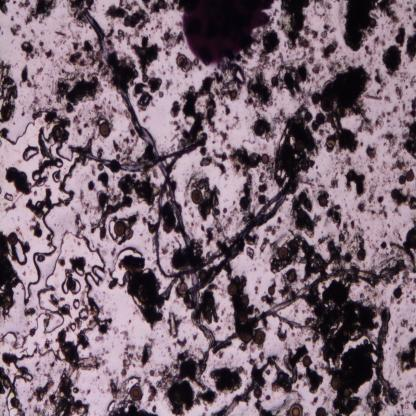Air bubble: (28, 209, 70, 304), (109, 247, 145, 294), (33, 300, 64, 336), (12, 240, 27, 265), (21, 145, 39, 163), (63, 269, 70, 295), (72, 278, 81, 296), (235, 69, 246, 83), (53, 156, 64, 168), (78, 309, 89, 321), (4, 190, 14, 202), (32, 169, 41, 182), (72, 298, 80, 310), (230, 89, 237, 99), (70, 323, 76, 332)
Background material: (308, 323, 374, 415), (320, 63, 374, 152), (307, 278, 382, 334), (274, 108, 316, 189), (119, 254, 165, 327), (343, 0, 398, 49), (90, 193, 133, 237), (52, 69, 103, 105), (158, 366, 196, 414), (281, 0, 317, 50), (178, 86, 206, 149), (58, 331, 101, 372), (282, 1, 318, 49), (288, 235, 328, 278), (0, 233, 20, 316), (228, 146, 261, 193), (288, 193, 322, 238), (105, 1, 150, 35), (187, 177, 221, 221), (55, 371, 89, 415), (103, 50, 137, 92), (120, 173, 159, 208), (280, 51, 308, 97), (246, 68, 274, 112), (134, 36, 160, 80), (0, 58, 17, 124), (37, 128, 68, 164), (170, 239, 204, 268), (198, 284, 222, 325), (24, 0, 59, 28), (209, 366, 242, 395), (201, 72, 216, 134), (107, 375, 130, 415), (389, 240, 416, 273), (5, 165, 33, 196), (257, 30, 281, 66), (26, 188, 54, 217), (404, 95, 416, 161), (374, 104, 401, 133), (395, 339, 416, 376), (173, 352, 197, 382), (372, 69, 392, 103), (40, 106, 69, 129), (388, 186, 416, 209), (344, 169, 367, 197), (161, 28, 184, 56), (213, 210, 233, 242), (382, 46, 402, 78), (304, 368, 326, 396), (28, 379, 56, 401), (328, 239, 352, 264), (120, 345, 137, 380), (366, 379, 382, 414), (381, 130, 404, 154), (403, 23, 416, 64), (212, 145, 228, 177), (82, 40, 100, 67), (78, 190, 98, 214), (163, 199, 176, 235), (306, 47, 321, 78), (92, 316, 113, 337), (326, 202, 342, 229), (0, 368, 15, 396), (140, 338, 154, 368), (167, 311, 182, 339), (283, 271, 299, 297), (339, 219, 357, 242), (269, 70, 286, 94), (246, 235, 261, 262), (142, 378, 158, 402), (264, 215, 284, 234), (366, 145, 378, 175), (320, 43, 340, 61), (102, 340, 113, 372), (115, 148, 136, 164), (310, 110, 325, 132), (354, 224, 367, 249), (224, 115, 242, 133), (16, 366, 34, 384), (150, 0, 173, 14), (195, 390, 218, 404), (20, 41, 36, 61), (384, 390, 404, 406), (398, 314, 414, 334), (28, 217, 43, 238), (376, 194, 388, 220), (29, 97, 42, 121), (1, 349, 18, 367), (10, 396, 25, 416), (20, 64, 32, 88), (123, 128, 139, 146), (88, 113, 108, 127), (74, 213, 86, 236), (139, 92, 154, 110), (257, 182, 268, 206), (200, 148, 213, 168), (390, 158, 410, 171), (70, 256, 86, 272), (396, 25, 407, 48), (72, 114, 83, 136), (142, 218, 157, 234), (97, 171, 109, 191), (401, 270, 414, 288), (266, 123, 278, 141), (340, 154, 352, 172), (143, 144, 155, 162), (69, 53, 84, 67), (170, 99, 181, 118), (277, 324, 288, 343), (82, 140, 95, 156), (328, 172, 341, 188), (259, 238, 270, 256), (148, 79, 163, 92), (368, 192, 376, 216), (106, 100, 116, 119), (217, 130, 229, 145), (10, 24, 22, 38), (173, 338, 187, 350), (206, 226, 214, 247), (70, 39, 82, 52), (134, 83, 146, 96), (109, 159, 120, 173), (357, 200, 367, 215), (71, 0, 95, 6), (42, 91, 53, 104), (113, 140, 124, 153), (154, 19, 164, 33), (53, 38, 67, 48), (0, 1, 10, 15), (393, 404, 404, 416), (64, 102, 76, 113), (44, 48, 55, 60), (24, 306, 35, 318), (121, 329, 132, 341), (18, 1, 32, 10), (220, 104, 231, 115), (0, 127, 10, 138), (109, 278, 118, 290), (115, 30, 124, 42), (86, 180, 96, 190), (32, 82, 42, 92), (51, 171, 60, 182), (54, 30, 67, 37), (94, 104, 104, 113), (35, 254, 46, 262), (58, 255, 65, 267), (171, 181, 178, 192), (97, 148, 104, 159), (36, 65, 44, 74), (83, 120, 90, 130), (38, 39, 45, 48), (35, 361, 40, 373), (404, 383, 414, 389), (29, 328, 36, 336), (192, 332, 199, 340), (20, 108, 26, 117), (111, 247, 117, 256), (380, 242, 387, 249), (215, 326, 222, 333), (158, 90, 164, 98), (411, 296, 416, 305), (9, 14, 14, 22), (153, 407, 158, 412)
Cellulose filter fibre: (253, 260, 404, 322), (227, 351, 302, 413), (376, 306, 391, 396)
Cotton: (73, 5, 288, 312)
Diatom: (320, 96, 334, 115), (239, 327, 255, 343), (404, 227, 416, 248), (178, 55, 192, 72), (277, 246, 289, 262), (191, 189, 203, 204), (254, 121, 266, 136), (176, 282, 188, 296), (114, 222, 126, 236), (254, 331, 266, 345), (330, 376, 342, 390), (289, 403, 303, 415), (295, 139, 306, 154), (130, 386, 141, 400), (356, 248, 366, 262), (239, 196, 249, 210), (8, 232, 18, 246), (100, 123, 110, 137), (239, 296, 250, 308), (314, 406, 327, 416), (326, 137, 336, 150), (228, 283, 237, 297), (393, 286, 403, 298), (302, 355, 312, 367), (369, 16, 378, 29), (312, 91, 321, 104), (124, 227, 133, 240), (253, 387, 262, 399), (199, 269, 208, 281), (318, 195, 327, 206), (406, 170, 414, 182), (262, 153, 269, 165), (398, 175, 406, 184), (304, 112, 312, 121), (268, 286, 275, 296), (295, 74, 302, 83), (97, 162, 104, 171), (412, 399, 416, 411)
Pen: (182, 2, 271, 69)
